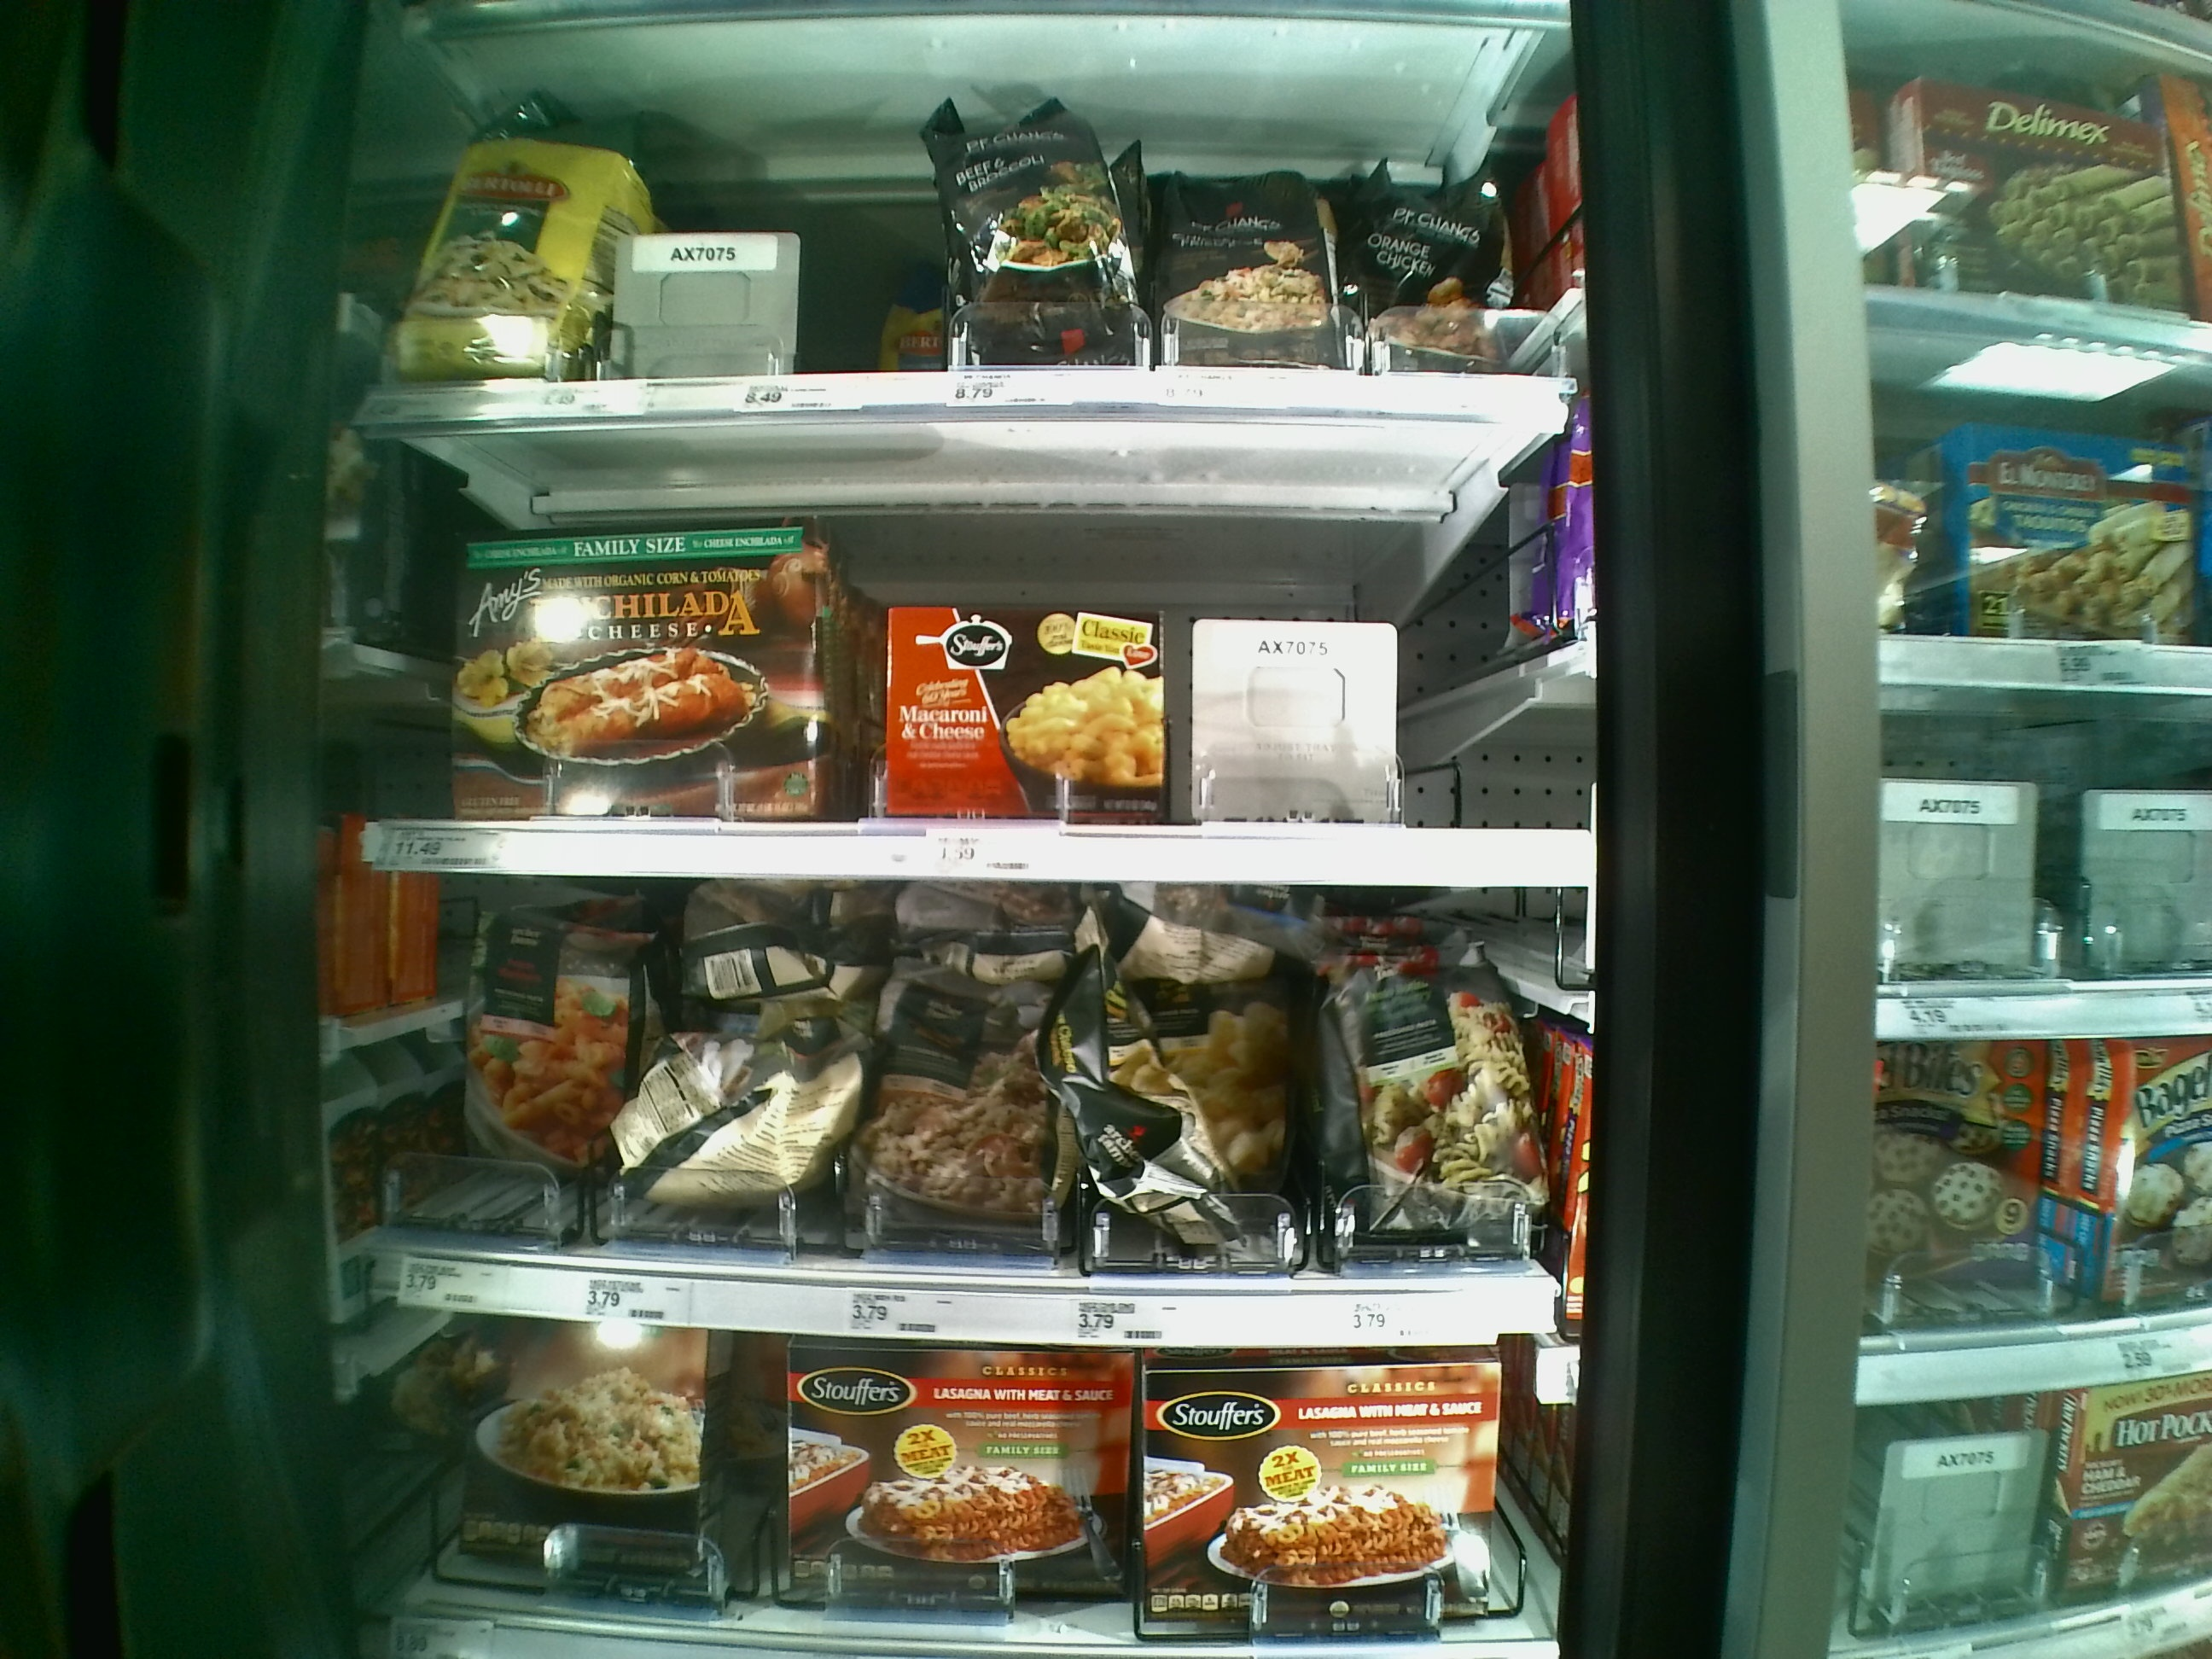shelf: (387, 416, 1578, 892), (397, 878, 1580, 1342), (371, 0, 1559, 415)
